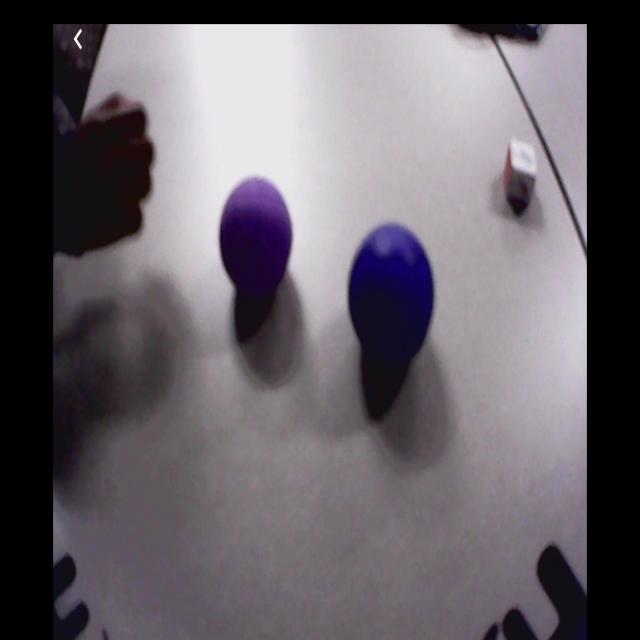ball: (350, 224, 436, 362), (218, 178, 294, 283)
